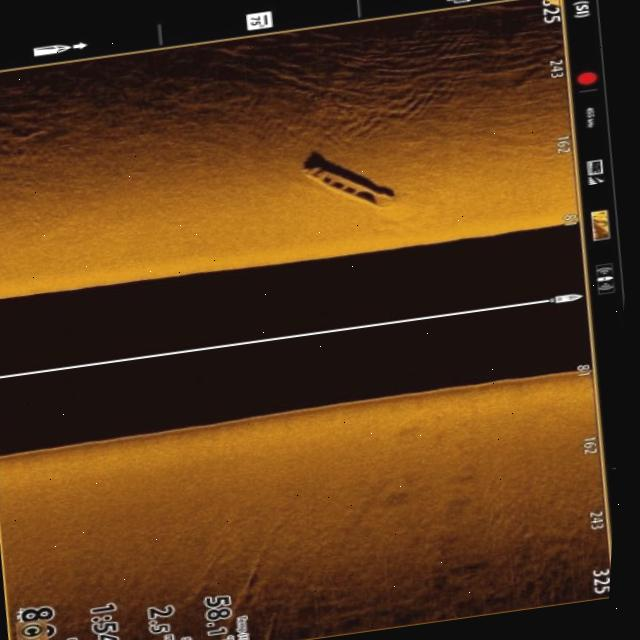shipwreck: (303, 149, 404, 218)
